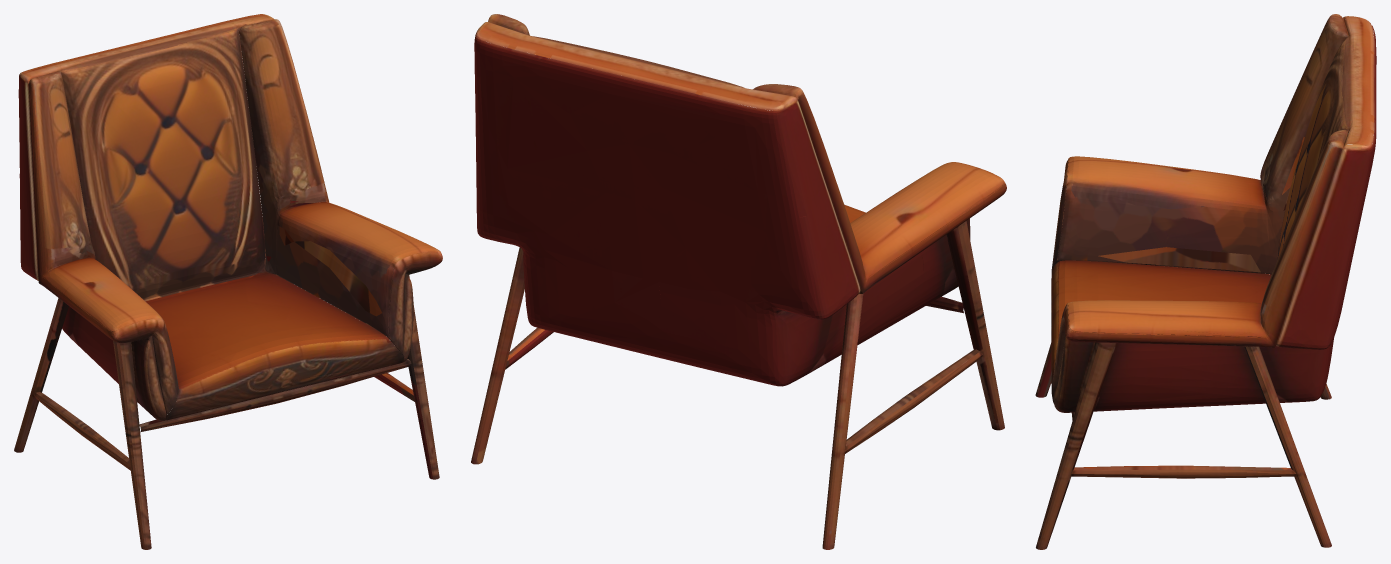
Rendered from edited_mesh.glb.
3 views of the same model, side by side, from view 1: azimuth 30°, elevation 25°; view 2: azimuth 150°, elevation 25°; view 3: azimuth 270°, elevation 25° (orthographic). The views are drawn at different scales.
Visible parts, largest first — view 1: solid_001_wire; view 2: solid_001_wire; view 3: solid_001_wire.
Part boxes in pixels (bbox=[...]): solid_001_wire: bbox=[14, 14, 442, 549]; solid_001_wire: bbox=[471, 14, 1006, 549]; solid_001_wire: bbox=[1035, 14, 1376, 549].
Bounding box in the file's own units: 1.29 × 1.36 × 1.06.
Materials: 1 (1 with a texture image).
